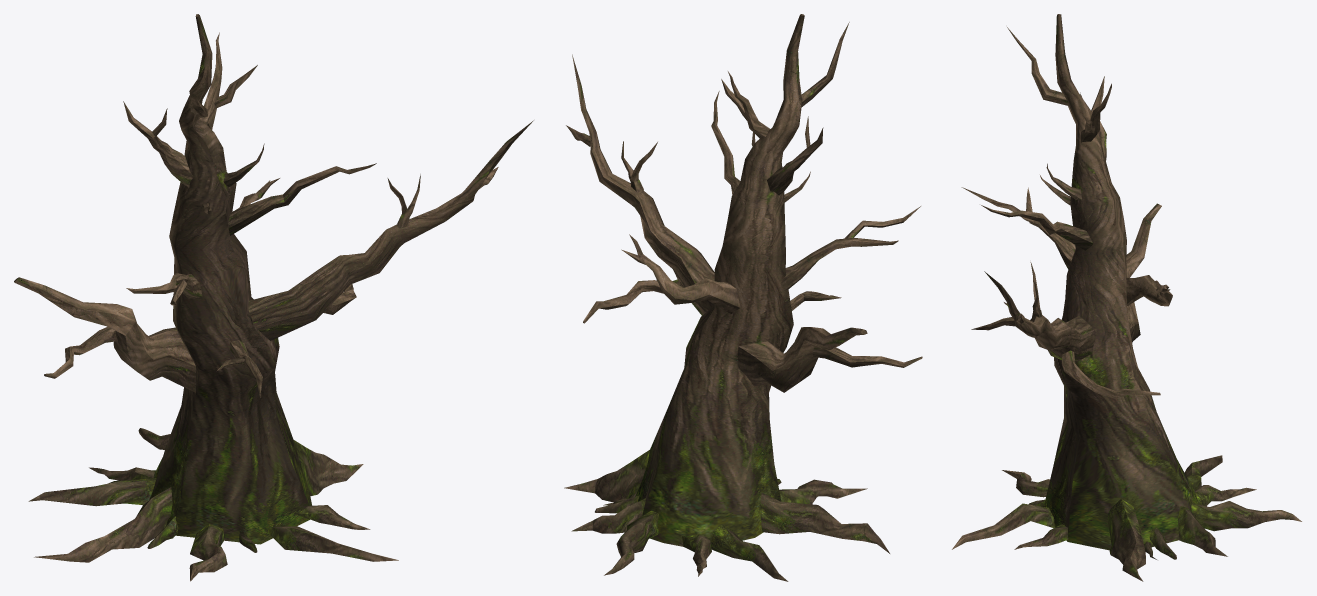
Rendered from jd_shu_1.FBX.
3 renders of one model, left to right at view 1: azimuth 30°, elevation 25°; view 2: azimuth 150°, elevation 25°; view 3: azimuth 270°, elevation 25°, orthographic. The views are drawn at different scales.
Parts seen in each view (by area): view 1: jd_shu_1; view 2: jd_shu_1; view 3: jd_shu_1.
Part boxes in pixels (<box>): jd_shu_1: <box>14,14,533,581</box>; jd_shu_1: <box>564,14,922,581</box>; jd_shu_1: <box>952,14,1301,581</box>.
Size of the model in its own units: 575 by 676 by 451.
